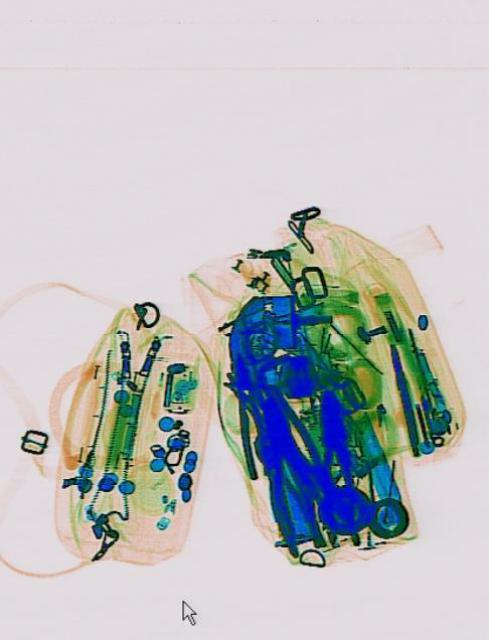Pliers: (240, 422, 325, 564), (217, 347, 280, 483), (310, 388, 359, 548)
